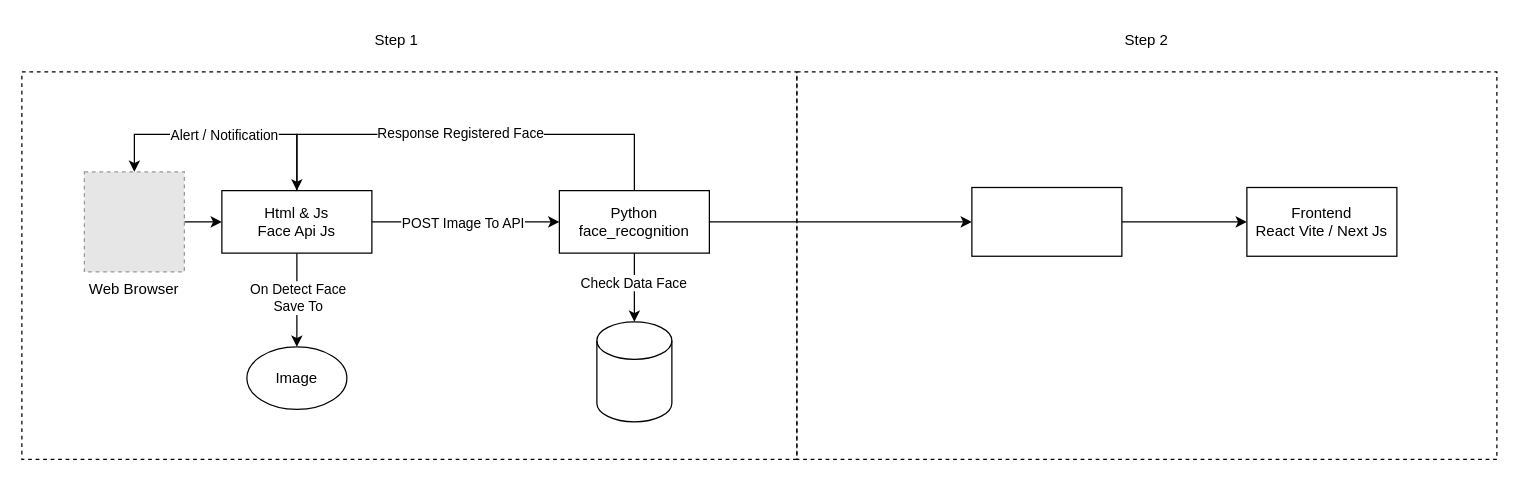
The diagram is 1519 pixels wide and 481 high, and some of its shapes have lost their labels. Grey dashed boxes stand in for pictures. Here are the shapes that lost their labels. From the top down, the centre of each, then its label:
At point 1046,221: "Backend Express / Laravel".
At point 634,371: "DB".
